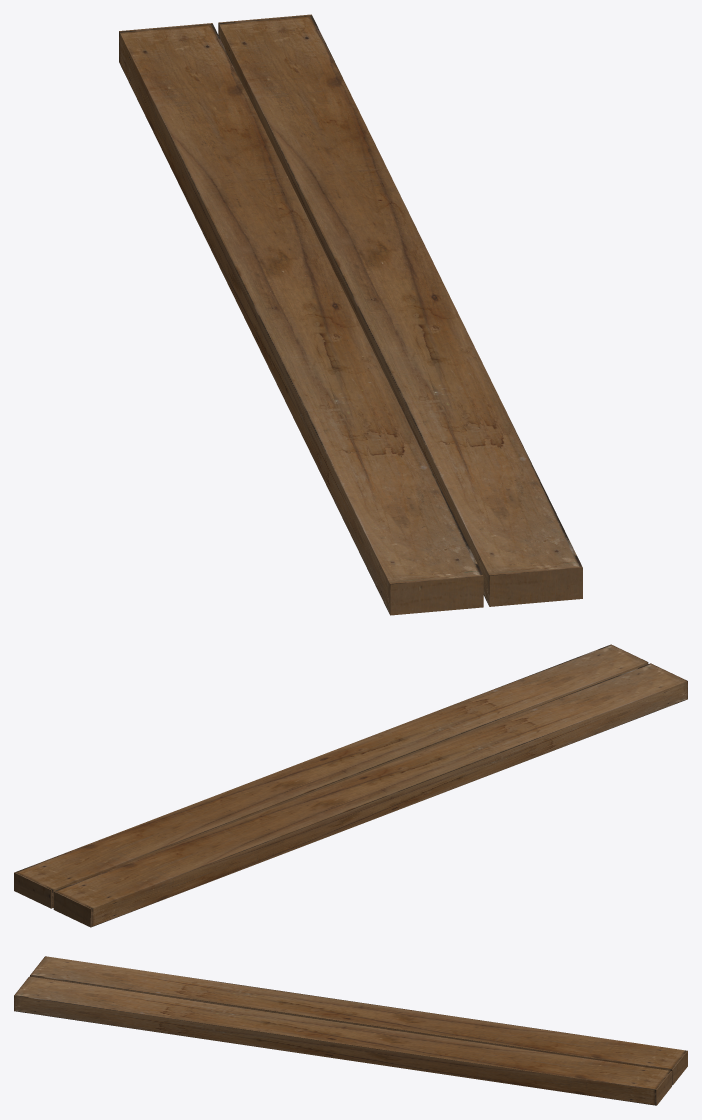
File: plank-walk-planks.fbx
3 renders of one model, top to bottom at view 1: azimuth 30°, elevation 25°; view 2: azimuth 150°, elevation 25°; view 3: azimuth 270°, elevation 25°, orthographic. The views are drawn at different scales.
Parts seen in each view (by area): view 1: plank ramp.001; view 2: plank ramp.001; view 3: plank ramp.001.
Boxes of the visible parts, x1,y1,x2,y2 form: plank ramp.001: (119,14,582,615); plank ramp.001: (14,644,687,927); plank ramp.001: (14,956,687,1105).
Bounding box in the file's own units: 509 × 35.54 × 1114.
